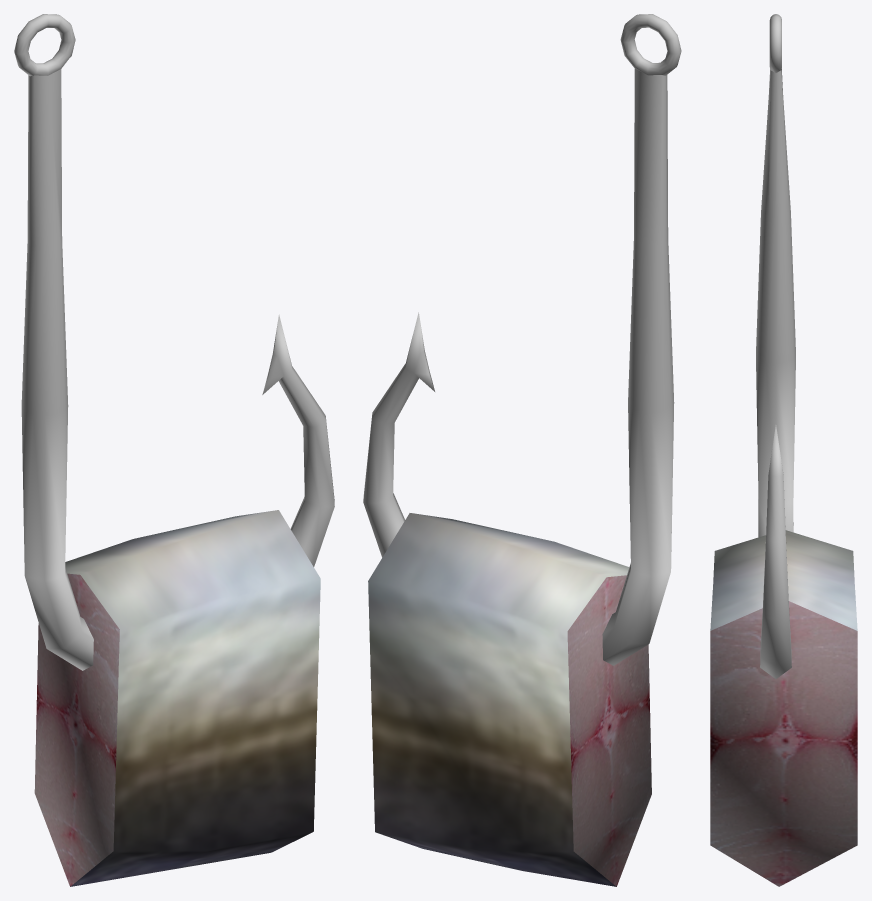
File: Bait_HorseMackerel.fbx
3 renders of one model, left to right at view 1: azimuth 30°, elevation 25°; view 2: azimuth 150°, elevation 25°; view 3: azimuth 270°, elevation 25°, orthographic. The views are drawn at different scales.
Parts seen in each view (by area): view 1: Bait_Pompano; view 2: Bait_Pompano; view 3: Bait_Pompano.
Boxes of the visible parts, x1,y1,x2,y2 form: Bait_Pompano: (14,14,334,886); Bait_Pompano: (363,14,681,886); Bait_Pompano: (710,14,857,886).
Size of the model in its own units: 0.2116 by 0.5664 by 0.0977.
